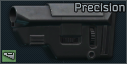B5 Systems Precision stock: (0, 0, 127, 64)
